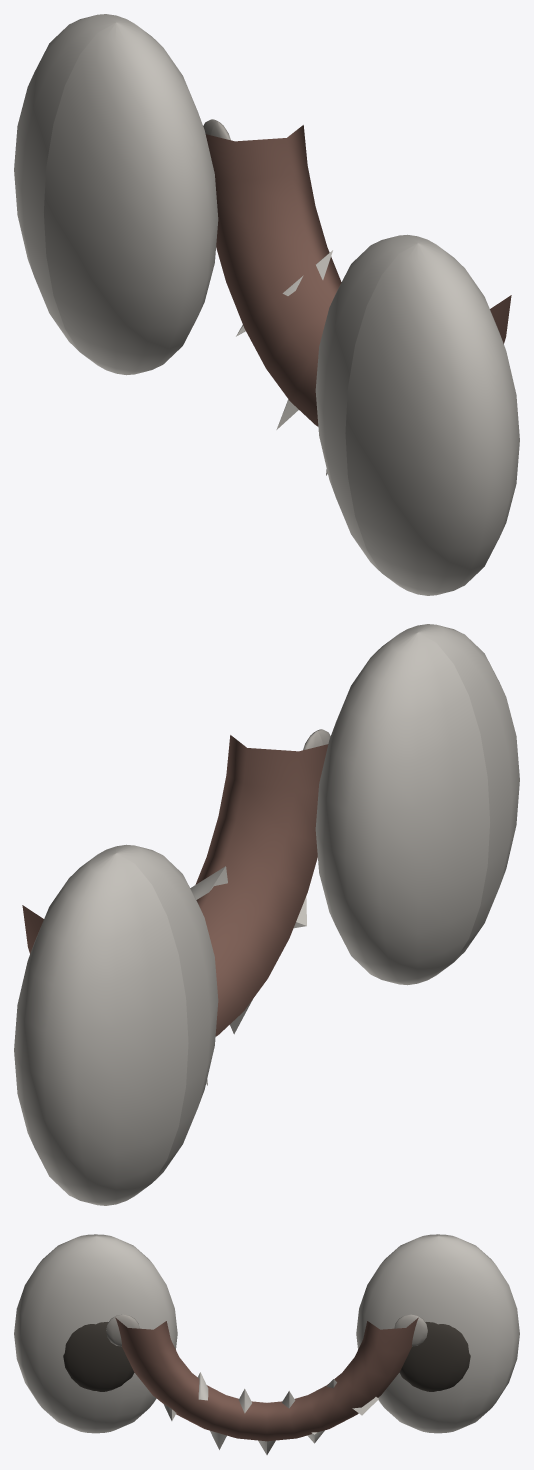
File: fangs.glb
3 renders of one model, top to bottom at view 1: azimuth 30°, elevation 25°; view 2: azimuth 150°, elevation 25°; view 3: azimuth 270°, elevation 25°, orthographic. The views are drawn at different scales.
Parts seen in each view (by area): view 1: face-fangs; view 2: face-fangs; view 3: face-fangs.
Boxes of the visible parts, x1,y1,x2,y2 form: face-fangs: (14,14,519,595); face-fangs: (14,624,519,1205); face-fangs: (14,1234,519,1454).
Bounding box in the file's own units: 0.0432 × 0.0707 × 0.1597.
